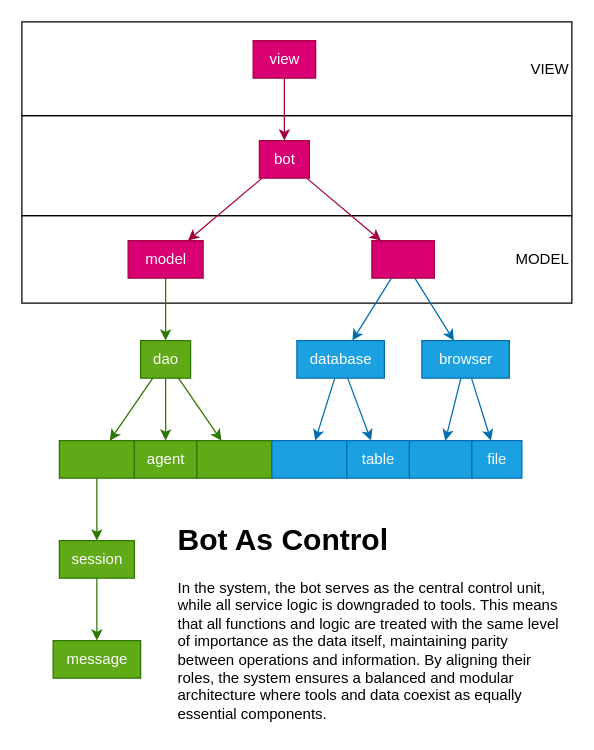
This 594x750 diagram has some shape labels left out. Here are the shapes that lost their labels. From the top down, the box of each, then its label:
(21, 114, 572, 216): CONTROL
(371, 239, 434, 278): tools
(58, 439, 134, 478): history
(196, 439, 272, 478): config
(271, 439, 347, 478): vector
(408, 439, 472, 478): web
